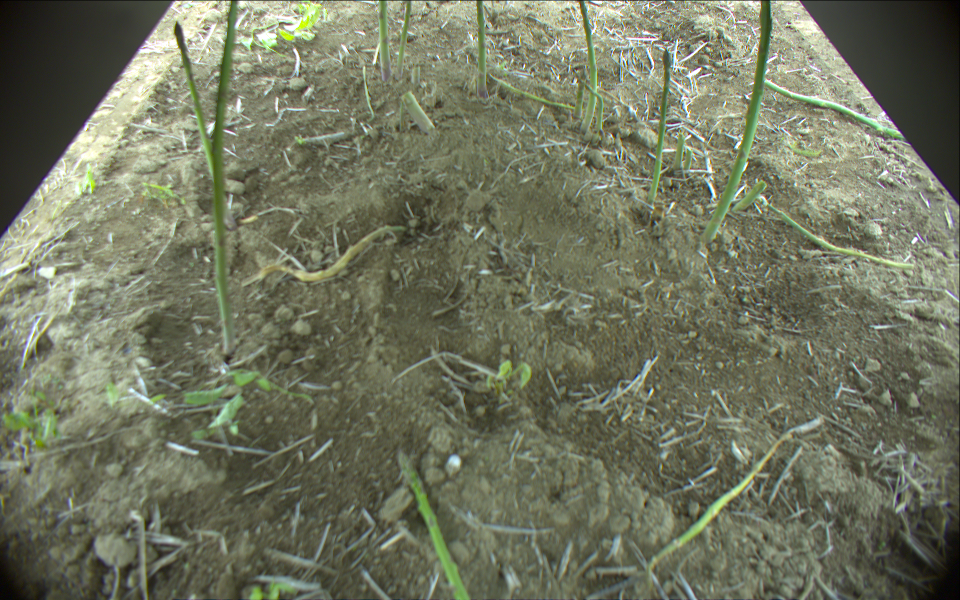aspa: (639, 424, 818, 574), (700, 1, 773, 243), (397, 450, 474, 600), (213, 1, 245, 354), (767, 204, 915, 271), (763, 79, 908, 142), (173, 19, 215, 178), (645, 50, 672, 214), (488, 74, 573, 108), (579, 1, 597, 135), (578, 68, 608, 131), (727, 177, 768, 216), (399, 92, 439, 131), (394, 1, 413, 78), (474, 1, 489, 94), (377, 1, 391, 85), (575, 65, 589, 120)
